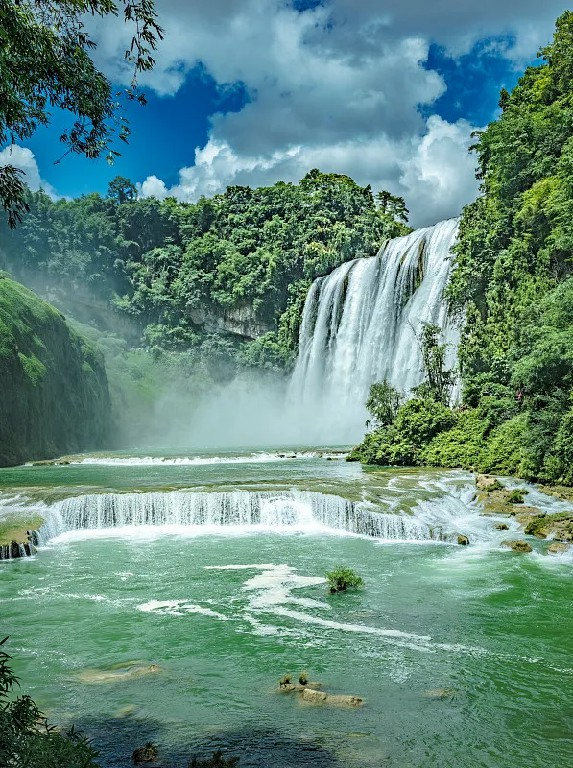Huangguoshu: (281, 217, 465, 447)
